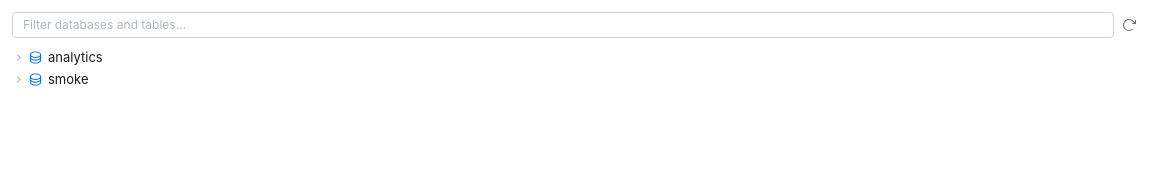
Test: schema filter › says so when nothing matches
Expected: the text "smoke" is shown, x1=48 y1=69 x2=88 y2=89
Type "zzz" into the field with placeholder "Filter databases and tables…". click: (563, 25)
box: x1=12 y1=12 x2=1114 y2=38
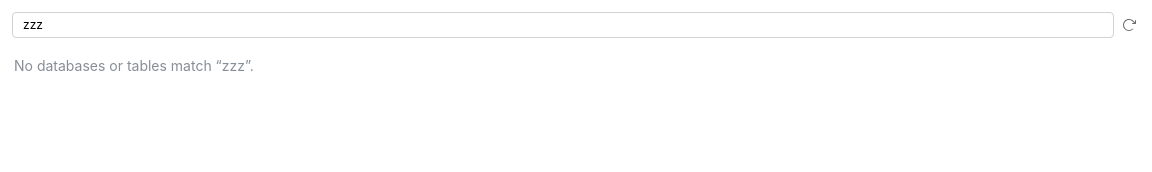
Now the text "No databases or tables match “zzz”." is shown, box x1=14 y1=57 x2=254 y2=74
